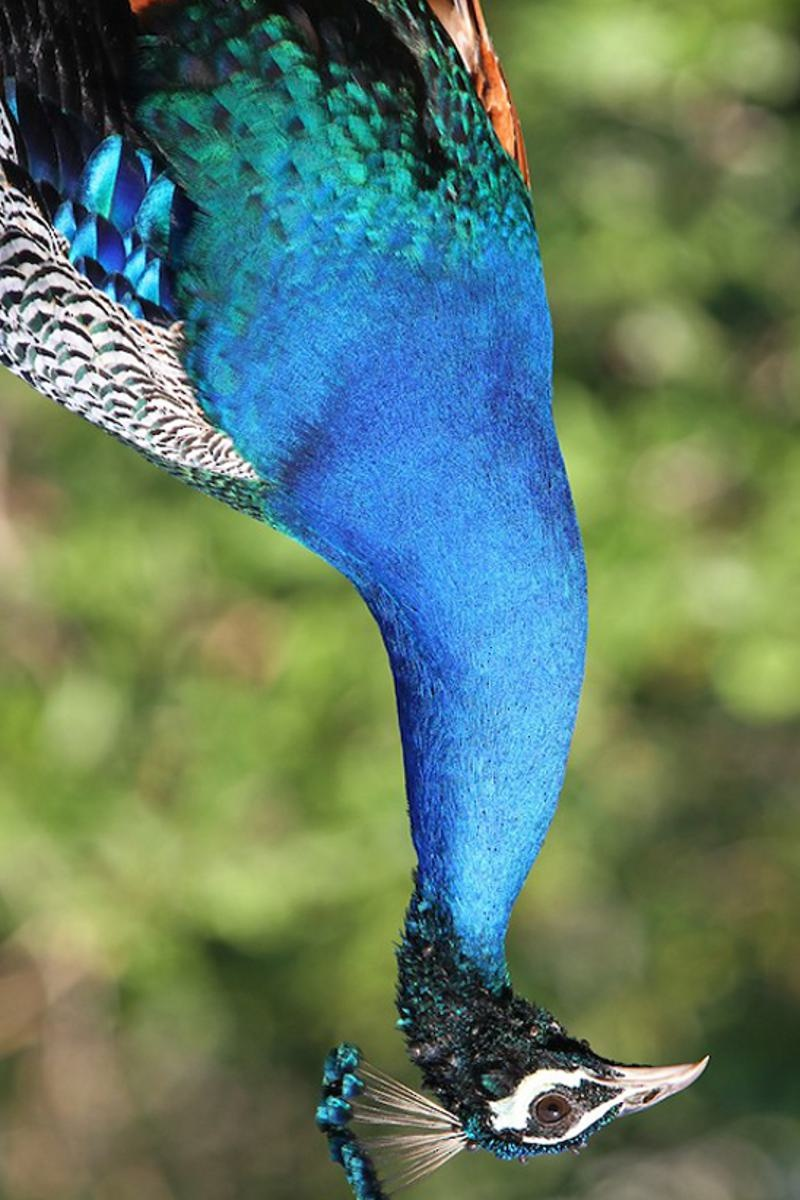peacock: (100, 1, 675, 1180)
